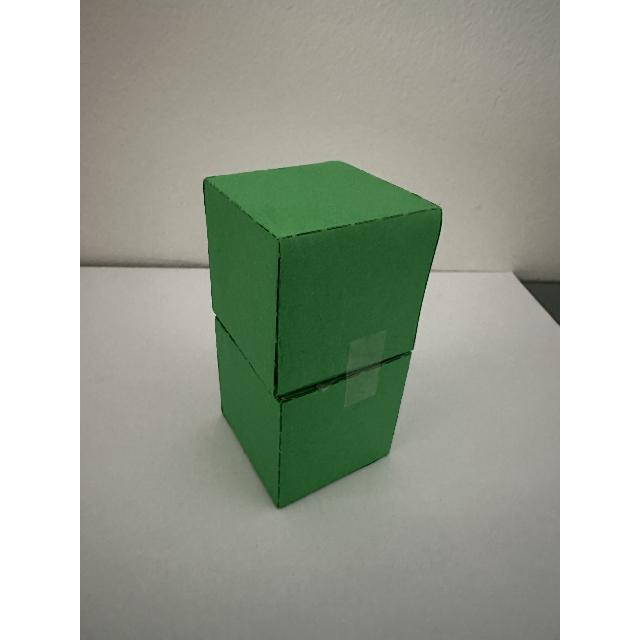green_cube: (193, 141, 454, 521)
